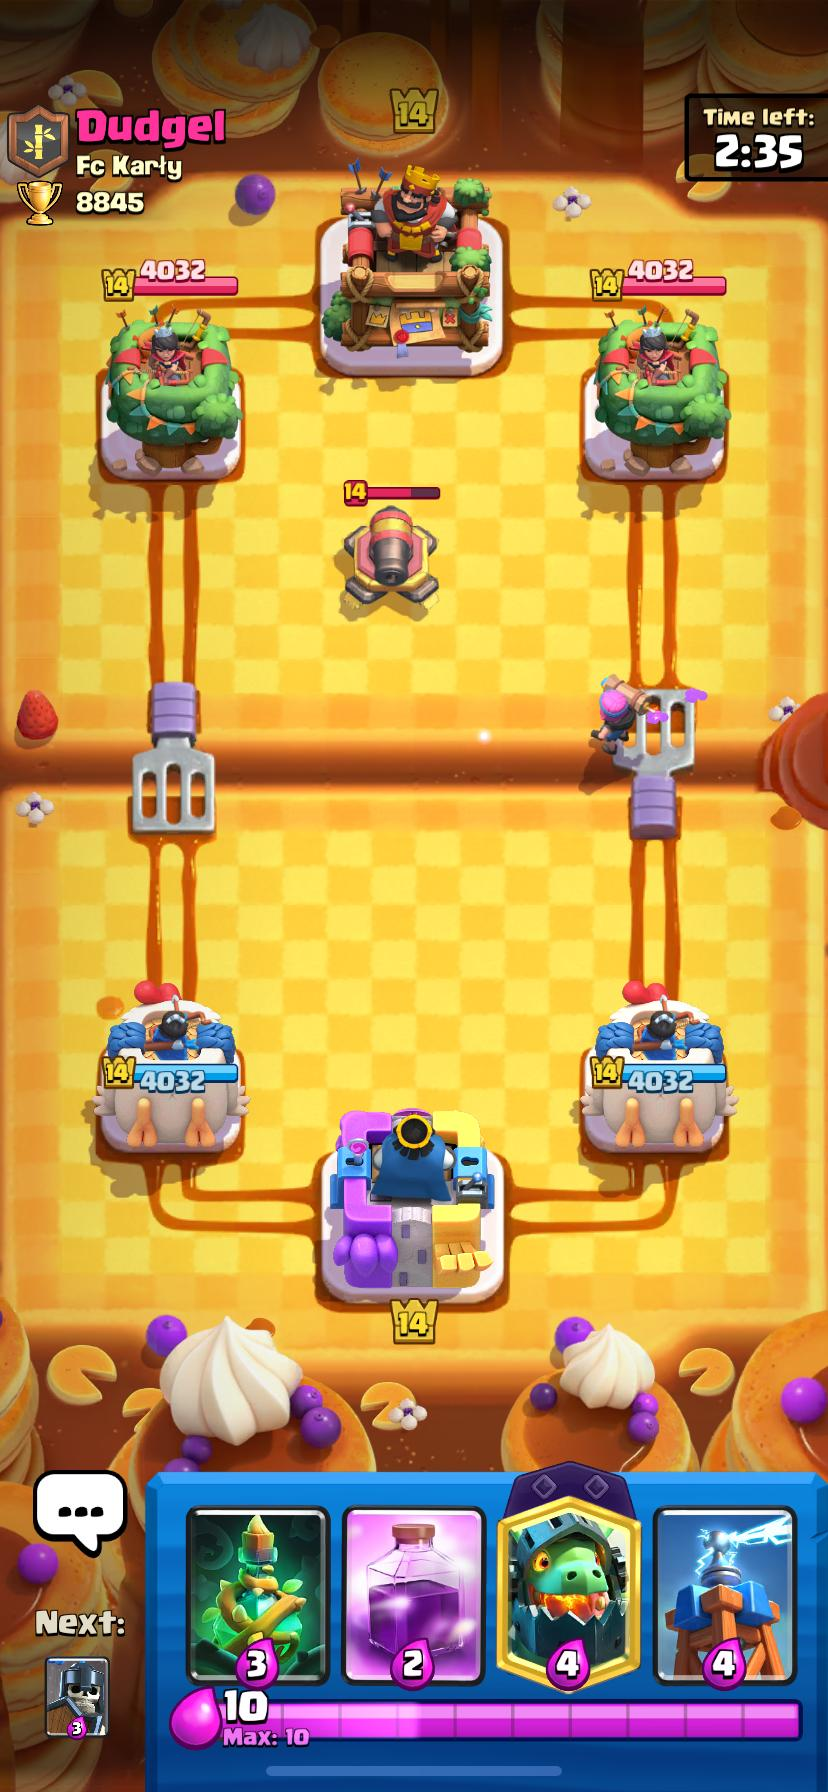EKingTower: (323, 166, 491, 351)
Ecan: (343, 503, 438, 608)
EnemyPrincessTower: (594, 311, 729, 473), (108, 310, 241, 466)
OFirecrack: (590, 675, 659, 757)
OwnKingTower: (331, 1109, 494, 1299)
OwnPrincessTower: (580, 982, 735, 1151), (93, 983, 248, 1151)
